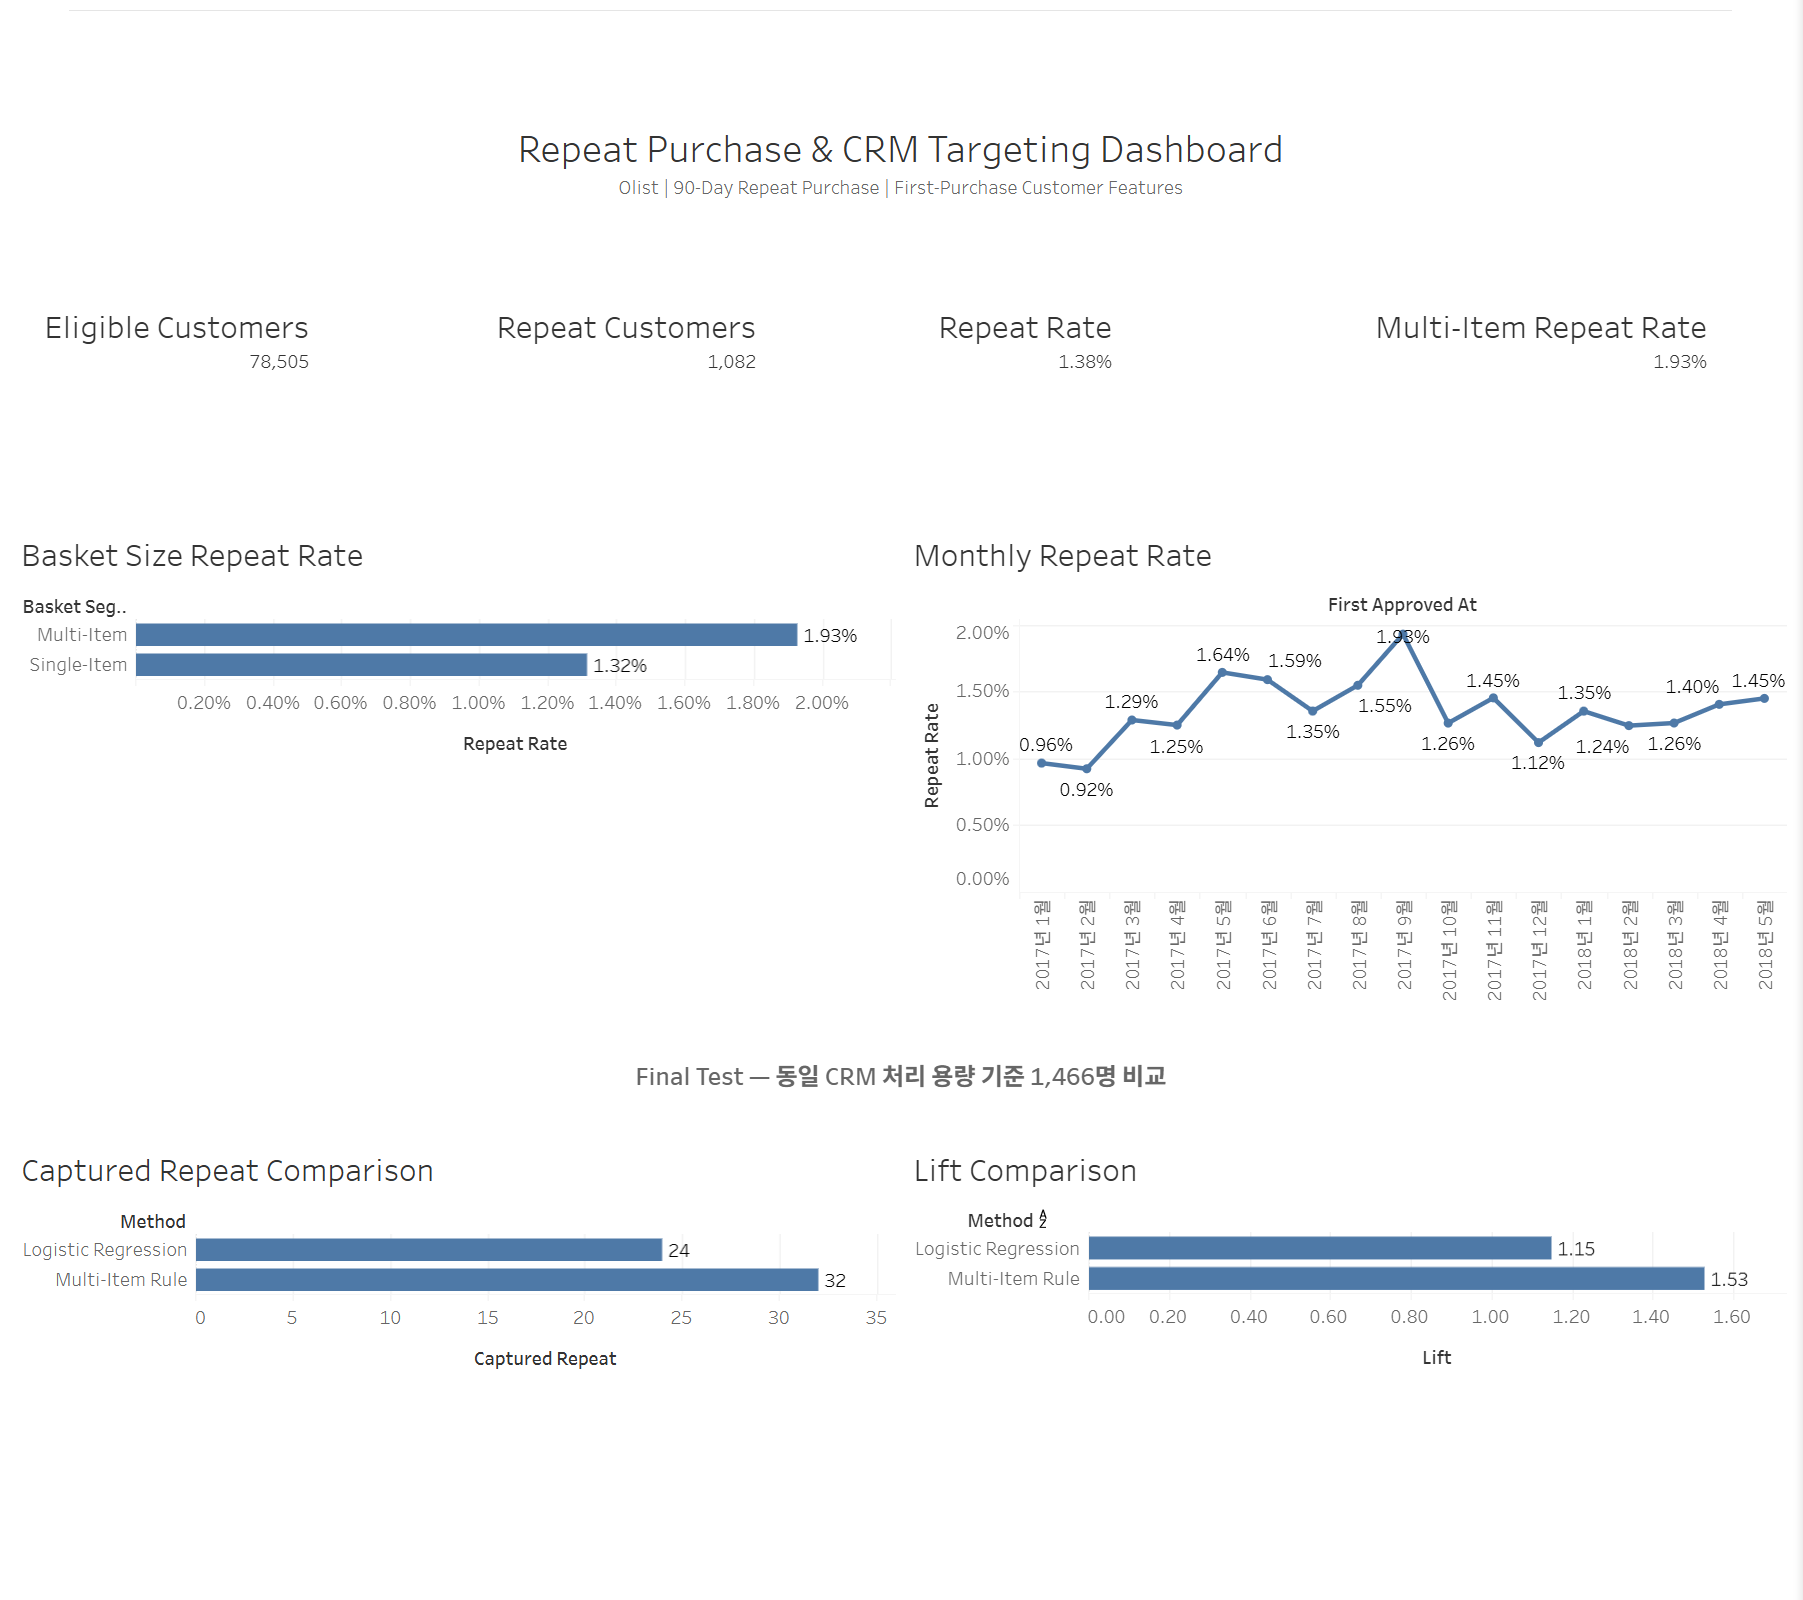

Layout of this report page (visuals, bound fields, positions):
{"tool":"tableau","page":{"name":"Repeat Purchase & CRM Targeting Dashboard","canvas":[1000,1000],"units":"permille","ordinal":0},"visuals":[{"type":"title","box":[3.1,5.5,993.8,164.7]},{"type":"worksheet","title":"KPI - Eligible Customers","mark":"Automatic","box":[3.1,170.1,248.4,130.8]},{"type":"worksheet","title":"KPI - Repeat Cusotmers","mark":"Automatic","box":[251.6,170.1,248.4,130.8]},{"type":"worksheet","title":"KPI - Repeat Rate","mark":"Automatic","box":[500,170.1,248.4,130.8]},{"type":"worksheet","title":"KPI - Multi-Item Repeat Rate","mark":"Automatic","box":[748.4,170.1,248.4,130.8]},{"type":"worksheet","title":"Basket Size Repeat Rate","mark":"Bar","rows":["Calculation_0718030642630659"],"cols":["Calculation_0718030640652290"],"box":[3.1,301,496.9,296.8]},{"type":"worksheet","title":"Monthly Repeat Rate","mark":"Automatic","rows":["Calculation_0718030640652290"],"cols":["first_approved_at"],"box":[500,301,496.9,296.8]},{"type":"text","box":[3.1,597.8,993.8,68.9]},{"type":"worksheet","title":"Captured Repeat Comparison","mark":"Bar","rows":["method"],"cols":["captured_repeat"],"box":[3.1,666.7,496.9,327.8]},{"type":"worksheet","title":"Lift Comparison","mark":"Bar","rows":["method"],"cols":["lift"],"box":[500,666.7,496.9,327.8]}]}

Visuals, with their boxes on the dashboard's canvas, which has no fixed pixel size, in thousandths of its width and height (x1, y1, x2, y2). These are canvas units, not pixel positions in the 1803x1600 screenshot, which may show the page scaled, cropped or inside an application window:
title: crop(3, 6, 997, 170)
"KPI - Eligible Customers" worksheet: crop(3, 170, 252, 301)
"KPI - Repeat Cusotmers" worksheet: crop(252, 170, 500, 301)
"KPI - Repeat Rate" worksheet: crop(500, 170, 748, 301)
"KPI - Multi-Item Repeat Rate" worksheet: crop(748, 170, 997, 301)
"Basket Size Repeat Rate" worksheet (Bar marks): crop(3, 301, 500, 598)
"Monthly Repeat Rate" worksheet: crop(500, 301, 997, 598)
text: crop(3, 598, 997, 667)
"Captured Repeat Comparison" worksheet (Bar marks): crop(3, 667, 500, 994)
"Lift Comparison" worksheet (Bar marks): crop(500, 667, 997, 994)
